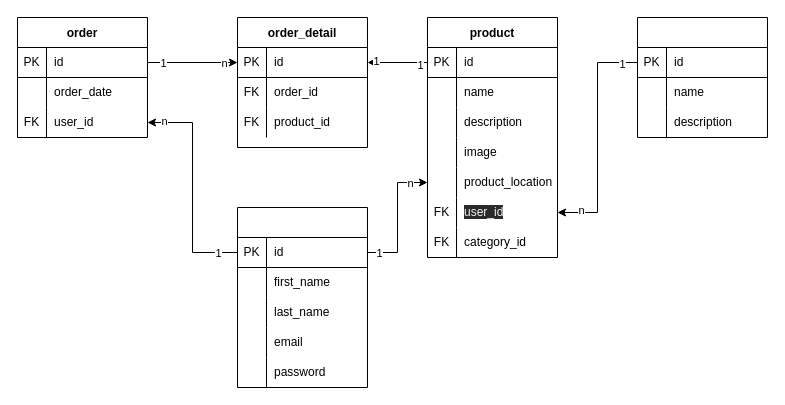
The diagram is 785 pixels wide and 405 high, and some of its shapes have lost their labels. The box of each missing label's shape, as (x1, y1, x2, y2) in pixels:
category: (636, 16, 768, 138)
user: (236, 206, 368, 388)
